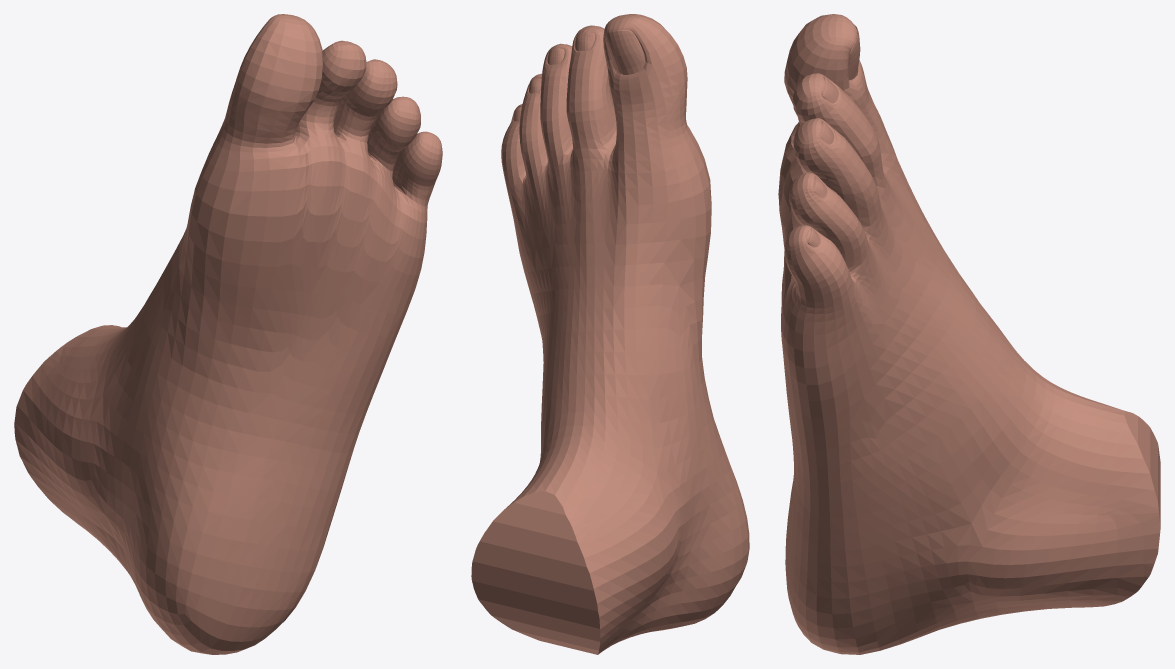
Rendered from foot.dae.
The picture shows the model from 3 angles, left to right: view 1: azimuth 30°, elevation 25°; view 2: azimuth 150°, elevation 25°; view 3: azimuth 270°, elevation 25°; orthographic projection. The views are drawn at different scales.
Visible parts, largest first — view 1: Feet-New; view 2: Feet-New; view 3: Feet-New.
Boxes of the visible parts, x1,y1,x2,y2 form: Feet-New: [14, 14, 442, 654]; Feet-New: [471, 14, 749, 654]; Feet-New: [778, 14, 1160, 654].
Bounding box in the file's own units: 0.1059 × 0.1234 × 0.2346.
